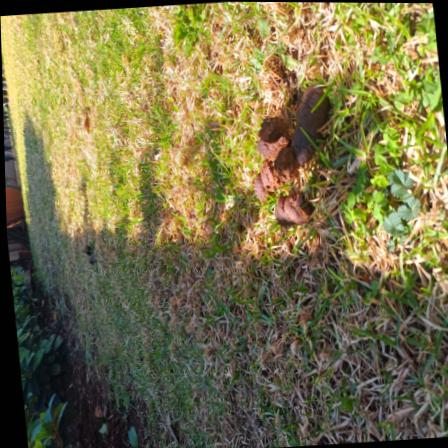dog-poop: (235, 69, 359, 250), (76, 235, 100, 275)
